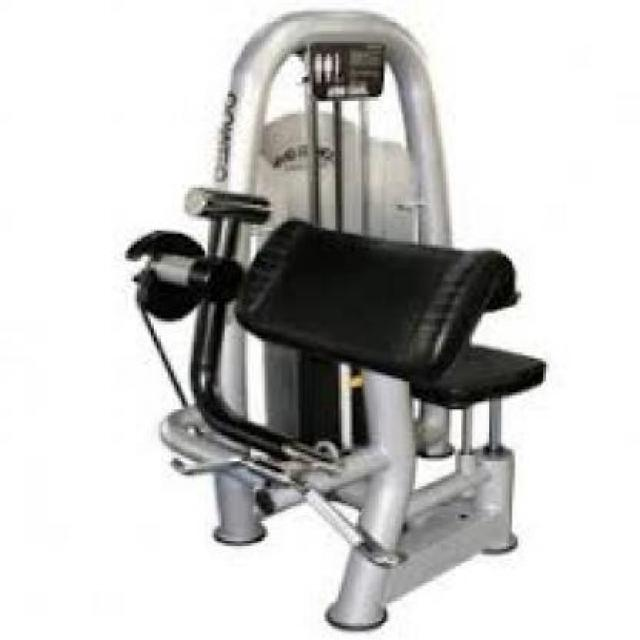arm curl machine: (125, 9, 546, 636)
